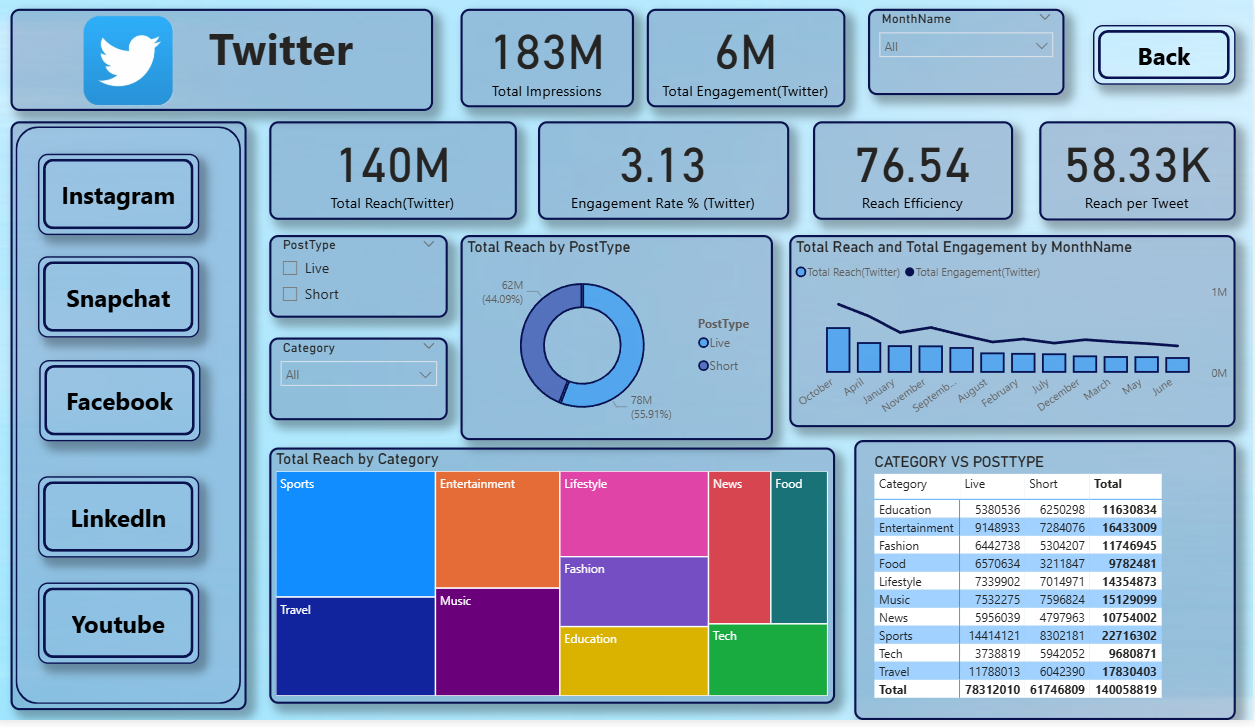

The dashboard page shown, as its layout file describes it:
{"tool":"powerbi","page":{"name":"Twitter","canvas":[1400,800],"ordinal":4},"visuals":[{"type":"textbox","box":[19.4,9.7,469.4,113.9],"z":0},{"type":"image","box":[0,0,300,134.7],"z":1000},{"type":"card","fields":{"Values":["Twitter_Data.Total Reach(Twitter)"]},"box":[306.9,134.7,275,109.7],"z":2000},{"type":"card","fields":{"Values":["Twitter_Data.Total Impressions"]},"box":[519.4,9.7,193.1,109.7],"z":3000},{"type":"card","fields":{"Values":["Twitter_Data.Engagement Rate % (Twitter)"]},"box":[605.6,134.7,279.2,109.7],"z":4000},{"type":"card","fields":{"Values":["Twitter_Data.Avg Reach per Tweet"]},"box":[911.1,134.7,222.2,109.7],"z":5000},{"type":"card","fields":{"Values":["Twitter_Data.Reach per Tweet"]},"box":[1162.5,134.7,218.1,110],"z":6000},{"type":"lineClusteredColumnComboChart","title":"Total Reach and Total Engagement by MonthName","fields":{"Category":["Twitter_Data.MonthName"],"Y":["Twitter_Data.Total Reach(Twitter)"],"Y2":["Twitter_Data.Total Engagement(Twitter)"]},"box":[884.7,261.1,495.8,213.9],"z":7000},{"type":"card","fields":{"Values":["Twitter_Data.Total Engagement(Twitter)"]},"box":[726.4,9.7,220.8,109.7],"z":8000},{"type":"donutChart","title":"Total Reach by PostType","fields":{"Category":["Twitter_Data.PostType"],"Y":["Twitter_Data.Total Reach(Twitter)"]},"box":[519.4,261.1,347.2,227.8],"z":9000},{"type":"treemap","title":"Total Reach by Category","fields":{"Values":["Twitter_Data.Total Reach(Twitter)"],"Group":["Twitter_Data.Category"]},"box":[306.9,497.2,629.2,284.7],"z":10000},{"type":"pivotTable","title":"CATEGORY VS POSTTYPE","fields":{"Rows":["Twitter_Data.Category"],"Columns":["Twitter_Data.PostType"],"Values":["Twitter_Data.Total Reach(Twitter)"]},"box":[956.9,488.9,423.6,311.1],"z":11000},{"type":"slicer","fields":{"Values":["Twitter_Data.MonthName"]},"box":[972.2,9.7,218.1,95.8],"z":12000},{"type":"slicer","fields":{"Values":["Twitter_Data.PostType"]},"box":[306.9,261.1,198.6,91.7],"z":13000},{"type":"slicer","fields":{"Values":["Twitter_Data.Category"]},"box":[306.9,375,198.6,91.7],"z":14000},{"type":"shape","box":[19.4,134.7,262.5,654.2],"z":15000},{"type":"actionButton","box":[50,170.8,179.2,90.3],"z":16000},{"type":"actionButton","box":[50,284.7,179.2,90.3],"z":17000},{"type":"actionButton","box":[51.4,400,179.2,90.3],"z":18000},{"type":"actionButton","box":[50,529.2,179.2,90.3],"z":19000},{"type":"actionButton","box":[50,647.2,179.2,90.3],"z":20000},{"type":"actionButton","box":[1222.2,27.8,158.3,66.7],"z":21000}]}

Visuals, with their boxes in screenshot pixels (x1, y1, x2, y2), scaled from the page's 1400x800 canvas onto the 1255x727 screenshot:
textbox: [x1=17, y1=9, x2=438, y2=112]
image: [x1=0, y1=0, x2=269, y2=122]
card - Twitter_Data.Total Reach(Twitter): [x1=275, y1=122, x2=522, y2=222]
card - Twitter_Data.Total Impressions: [x1=466, y1=9, x2=639, y2=109]
card - Twitter_Data.Engagement Rate % (Twitter): [x1=543, y1=122, x2=793, y2=222]
card - Twitter_Data.Avg Reach per Tweet: [x1=817, y1=122, x2=1016, y2=222]
card - Twitter_Data.Reach per Tweet: [x1=1042, y1=122, x2=1238, y2=222]
"Total Reach and Total Engagement by MonthName" lineClusteredColumnComboChart: [x1=793, y1=237, x2=1238, y2=432]
card - Twitter_Data.Total Engagement(Twitter): [x1=651, y1=9, x2=849, y2=109]
"Total Reach by PostType" donutChart: [x1=466, y1=237, x2=777, y2=444]
"Total Reach by Category" treemap: [x1=275, y1=452, x2=839, y2=711]
"CATEGORY VS POSTTYPE" pivotTable: [x1=858, y1=444, x2=1238, y2=726]
slicer - Twitter_Data.MonthName: [x1=872, y1=9, x2=1067, y2=96]
slicer - Twitter_Data.PostType: [x1=275, y1=237, x2=453, y2=321]
slicer - Twitter_Data.Category: [x1=275, y1=341, x2=453, y2=424]
shape: [x1=17, y1=122, x2=253, y2=717]
actionButton: [x1=45, y1=155, x2=205, y2=237]
actionButton: [x1=45, y1=259, x2=205, y2=341]
actionButton: [x1=46, y1=364, x2=207, y2=446]
actionButton: [x1=45, y1=481, x2=205, y2=563]
actionButton: [x1=45, y1=588, x2=205, y2=670]
actionButton: [x1=1096, y1=25, x2=1238, y2=86]
